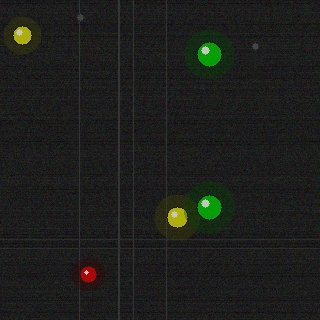green_normal: (195, 40, 223, 68), (195, 193, 223, 221)
red_fault: (78, 264, 98, 284)
yellow_warning: (165, 205, 189, 229), (11, 24, 33, 46)
